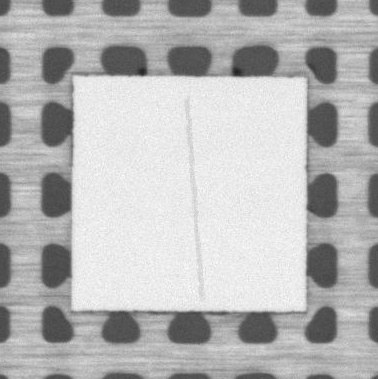DIE_CRACK: (187, 99, 201, 299)
